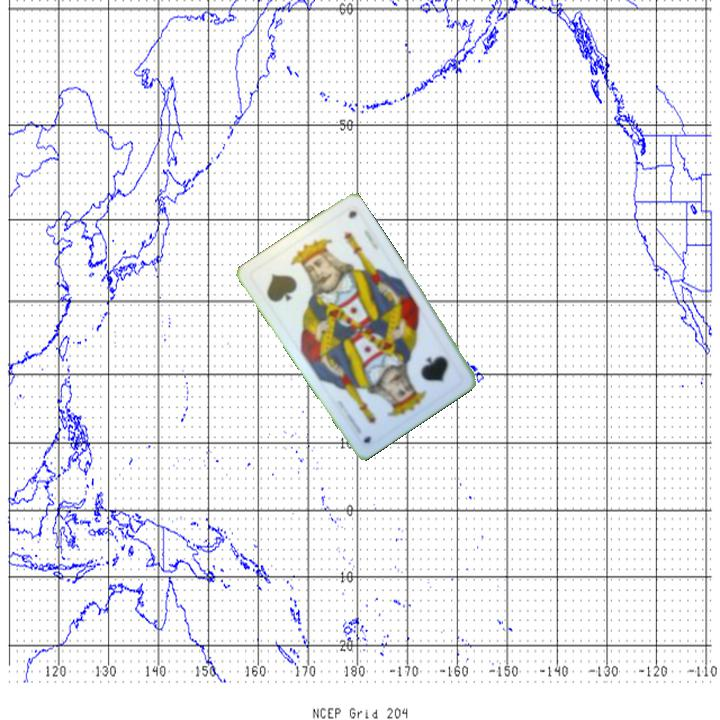s_k.png: (247, 237, 333, 321), (383, 331, 469, 414)
